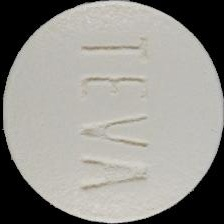0615-7670: (0, 0, 224, 224)
